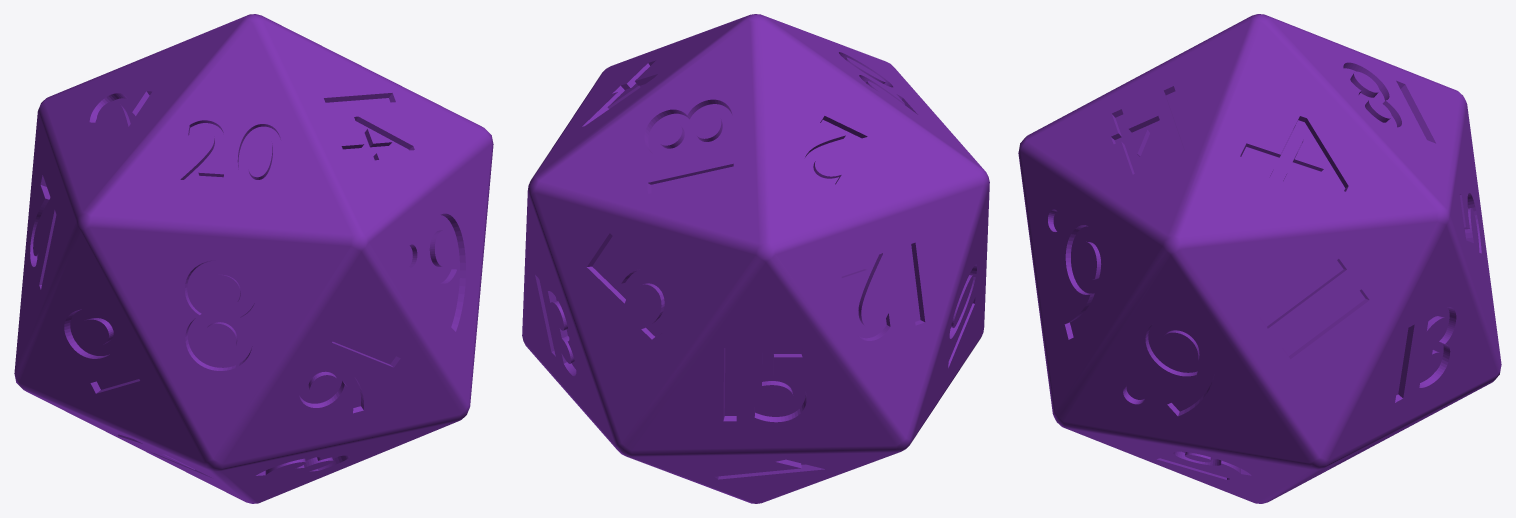
The model's file is Dice_textured4.gltf.
3 renders of one model, left to right at view 1: azimuth 30°, elevation 25°; view 2: azimuth 150°, elevation 25°; view 3: azimuth 270°, elevation 25°, orthographic.
Parts seen in each view (by area): view 1: Icosphere; view 2: Icosphere; view 3: Icosphere.
Boxes of the visible parts, <box> form: Icosphere: <box>14,14,493,503</box>; Icosphere: <box>522,14,989,503</box>; Icosphere: <box>1018,14,1501,503</box>.
Size of the model in its own units: 3.94 by 4.5 by 4.04.
Materials: 1 (1 with a texture image).
